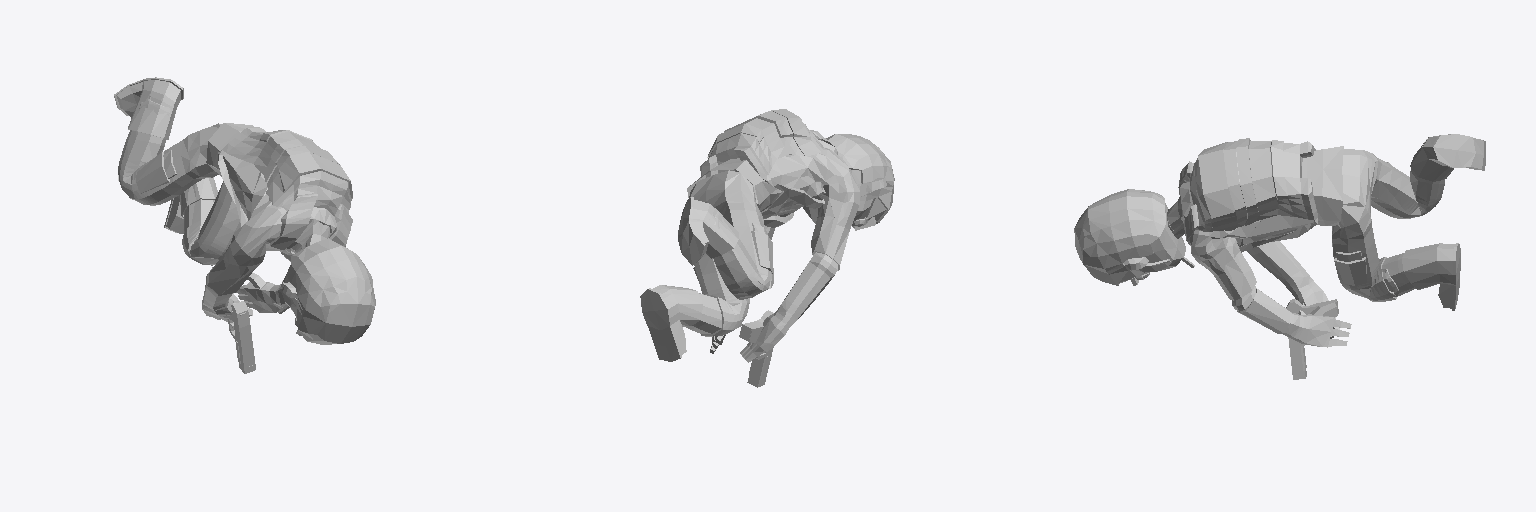
Rendered from frame_0060.obj.
3 views of the same model, side by side, from view 1: azimuth 30°, elevation 25°; view 2: azimuth 150°, elevation 25°; view 3: azimuth 270°, elevation 25° (orthographic).
Visible parts, largest first — view 1: Body, Gun; view 2: Body, Gun; view 3: Body, Gun.
Boxes of the visible parts, <box> form: Body: <box>114,77,375,344</box>; Gun: <box>228,293,255,373</box>; Body: <box>640,109,894,362</box>; Gun: <box>739,310,773,387</box>; Body: <box>1074,134,1485,347</box>; Gun: <box>1286,299,1338,379</box>.
Bounding box in the file's own units: 1.29 × 2.3 × 3.5.